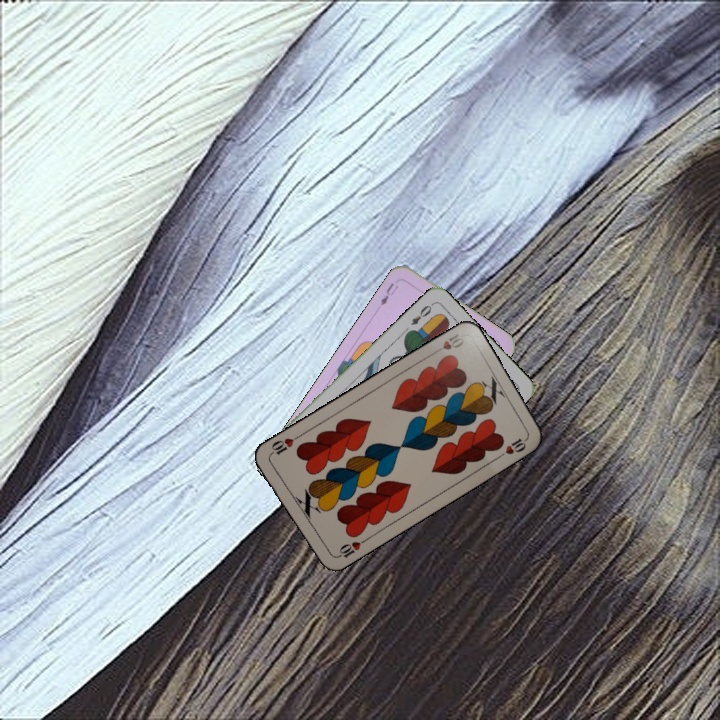EO: (407, 299, 436, 328)
EU: (376, 279, 401, 308)
H10: (428, 329, 467, 357), (332, 535, 369, 561)
